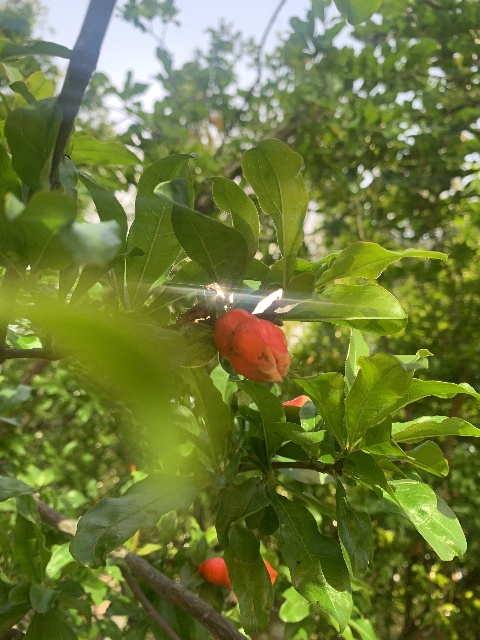bud: (213, 308, 290, 383), (198, 555, 277, 589), (282, 394, 310, 407)
